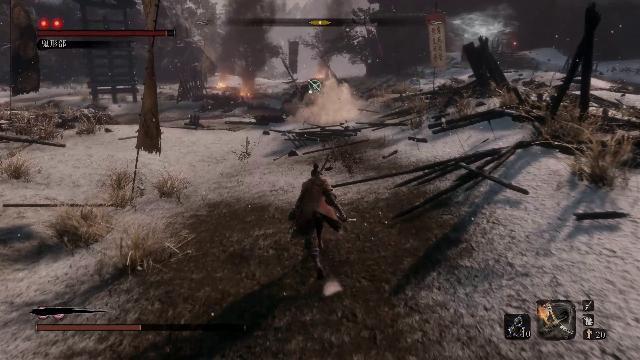sk: (287, 160, 351, 283)
